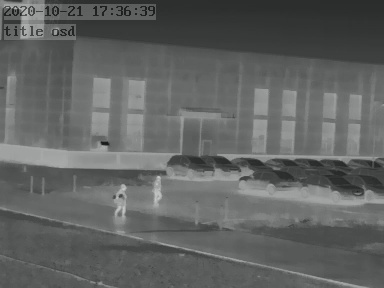person: (113, 182, 127, 218), (151, 176, 161, 207)
vehicle: (302, 175, 364, 203), (238, 170, 303, 194), (165, 152, 213, 179), (203, 153, 242, 177), (349, 173, 383, 200), (233, 154, 269, 171), (262, 155, 296, 170), (347, 156, 379, 170), (295, 155, 324, 169), (318, 156, 347, 169)
